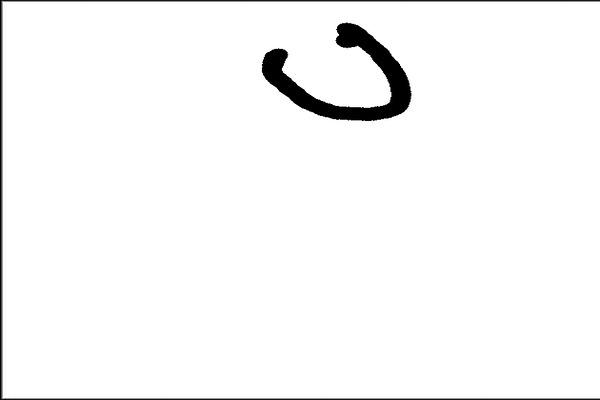U: (256, 15, 419, 135)
